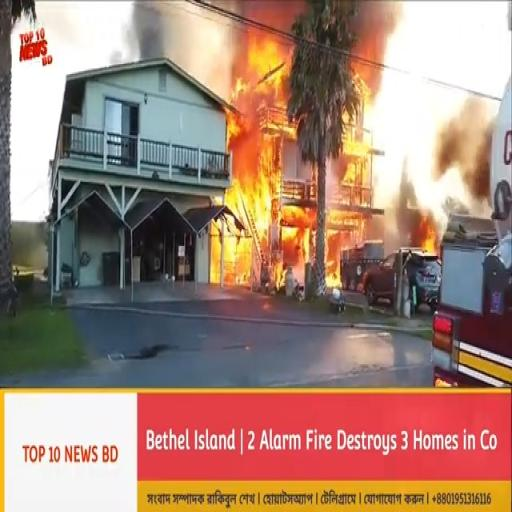fire: (213, 181, 274, 278), (440, 122, 485, 198)
